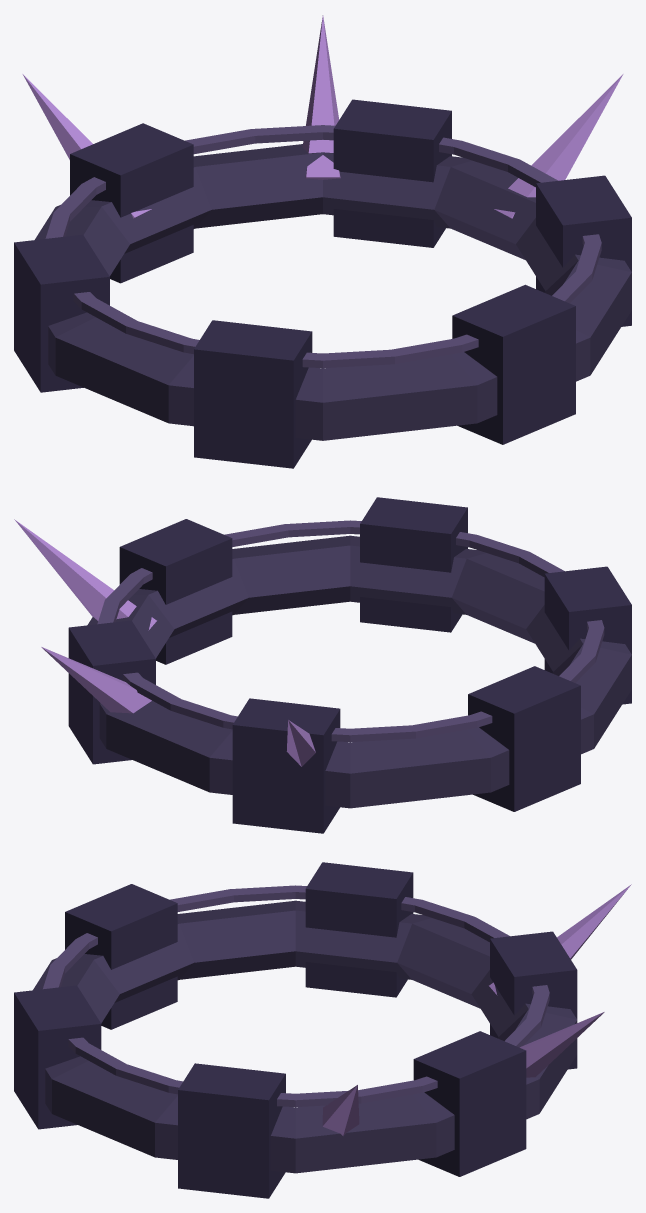
File: stone_ring.gltf
3 views of the same model, one above another, from view 1: azimuth 30°, elevation 25°; view 2: azimuth 150°, elevation 25°; view 3: azimuth 270°, elevation 25° (orthographic). The views are drawn at different scales.
Visible parts, largest first — view 1: stones, band, groove, crystals; view 2: stones, band, groove, crystals; view 3: stones, band, groove, crystals.
Part boxes in pixels (x1,y1,x2,y2): stones: (14,99,631,468); band: (35,144,631,440); groove: (45,125,601,368); crystals: (22,15,623,218); stones: (68,497,631,833); band: (87,535,631,808); groove: (97,520,604,742); crystals: (14,519,315,766); stones: (14,862,577,1198); band: (33,900,577,1173); groove: (43,885,549,1107); crystals: (322,884,631,1135).
Bounding box in the file's own units: 8.75 × 2.19 × 8.53.
